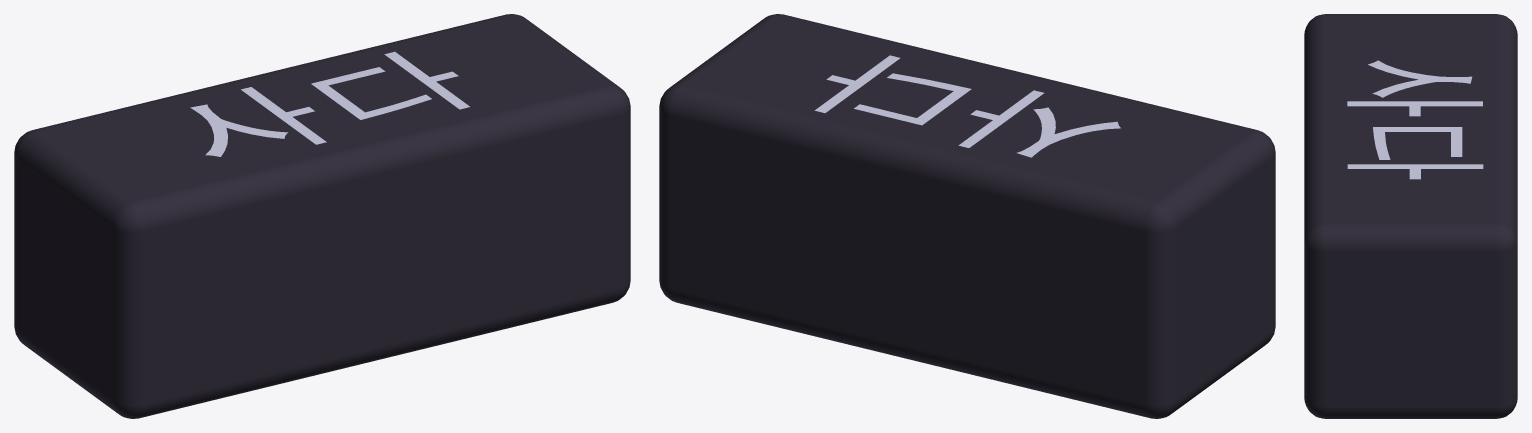
File: buy.glb
The picture shows the model from 3 angles, left to right: view 1: azimuth 30°, elevation 25°; view 2: azimuth 150°, elevation 25°; view 3: azimuth 270°, elevation 25°; orthographic projection. The views are drawn at different scales.
Parts seen in each view (by area): view 1: Cut, Extrude; view 2: Cut, Extrude; view 3: Cut, Extrude.
Boxes of the visible parts, left/top/right/bottom form: Cut: left=14, top=14, right=630, bottom=418; Extrude: left=190, top=51, right=469, bottom=156; Cut: left=659, top=14, right=1275, bottom=418; Extrude: left=815, top=55, right=1120, bottom=157; Cut: left=1304, top=14, right=1517, bottom=418; Extrude: left=1347, top=60, right=1483, bottom=179.
Size of the model in its own units: 5 by 2 by 2.
